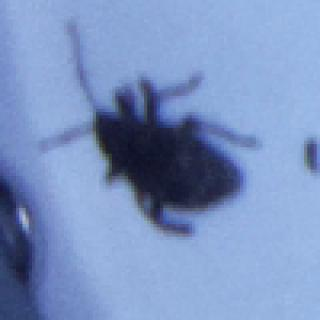bvw: (37, 21, 259, 238)
